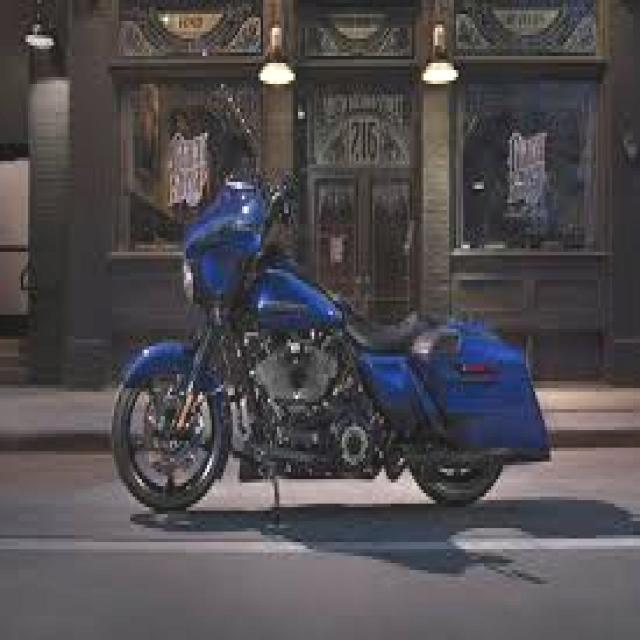MOTORCYCLE: (110, 230, 544, 517)
